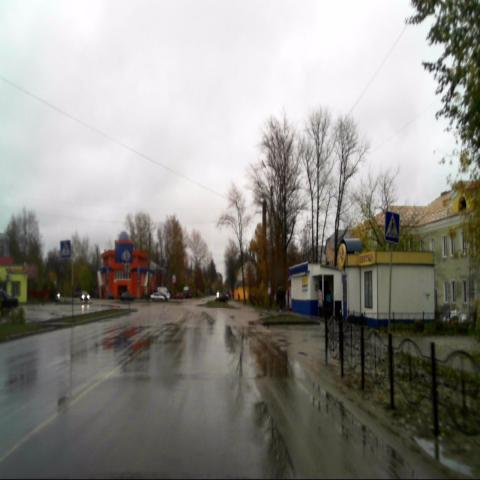5_19_1: (384, 211, 400, 244), (60, 240, 70, 258)
